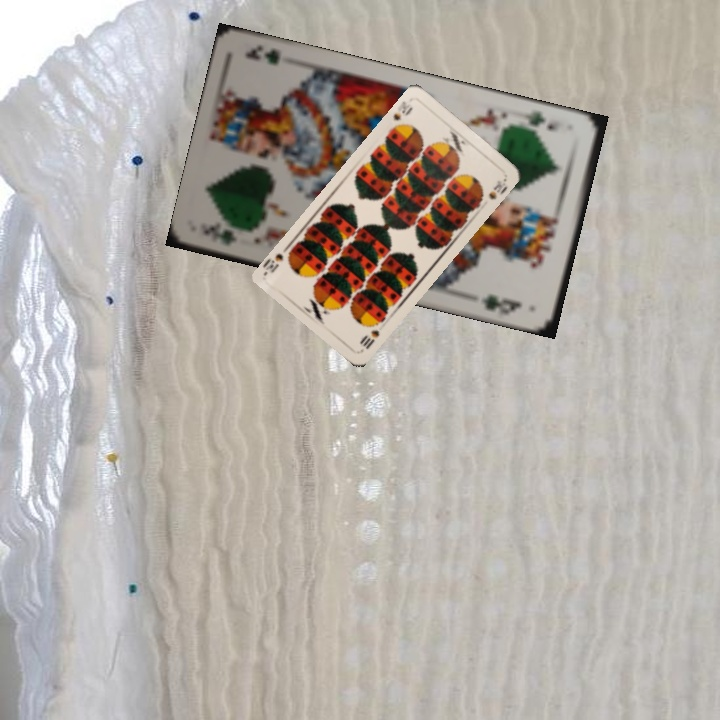GK: (518, 107, 564, 134), (199, 222, 240, 247)
S10: (387, 97, 415, 132), (356, 326, 382, 352)
